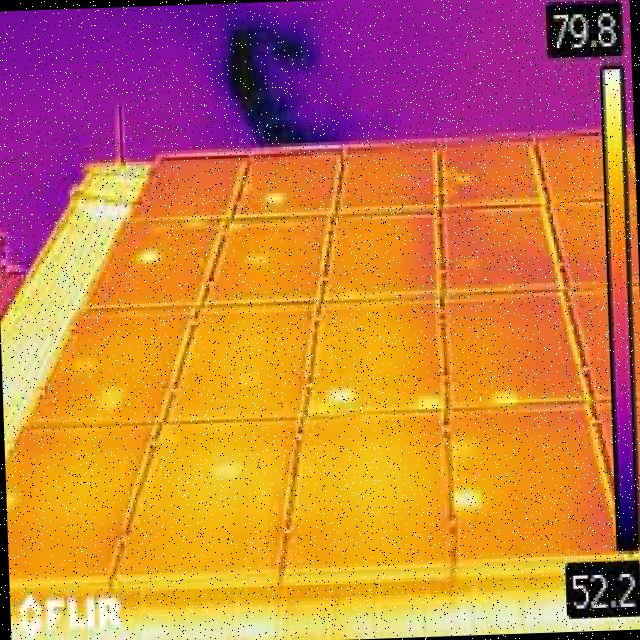Hotspot: (411, 384, 448, 422), (210, 454, 252, 486), (448, 482, 486, 516), (94, 380, 132, 410), (326, 378, 362, 408), (482, 389, 520, 410), (450, 163, 478, 190), (133, 243, 161, 267), (262, 186, 290, 207), (6, 486, 22, 516), (247, 249, 270, 266)
